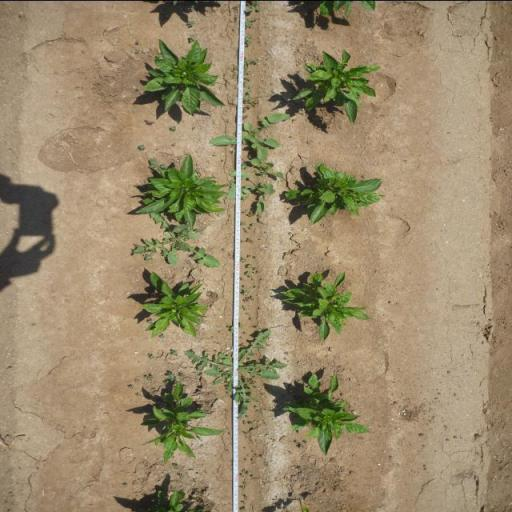plant: (136, 382, 230, 462), (282, 371, 370, 453), (280, 266, 374, 342), (292, 46, 381, 124), (283, 160, 387, 224), (142, 38, 226, 113), (133, 157, 228, 221), (138, 270, 210, 337), (141, 487, 187, 512), (316, 0, 378, 18)
weed: (182, 328, 291, 418), (134, 211, 224, 270), (214, 120, 288, 154), (227, 176, 276, 214), (231, 158, 285, 177), (242, 88, 258, 112), (243, 58, 259, 74), (178, 0, 196, 12), (244, 0, 262, 11), (226, 62, 238, 76), (245, 16, 256, 28), (242, 468, 254, 478), (142, 253, 156, 261), (243, 76, 252, 88), (166, 370, 176, 380), (244, 34, 252, 46), (149, 158, 157, 169), (143, 118, 155, 125), (242, 294, 253, 301), (246, 263, 258, 269), (239, 288, 248, 296), (245, 311, 253, 320), (242, 420, 254, 426), (228, 177, 236, 186), (192, 488, 198, 499), (244, 270, 252, 278), (226, 324, 234, 332), (138, 143, 146, 150), (243, 226, 252, 232), (144, 374, 153, 380), (240, 256, 247, 263), (247, 210, 255, 216), (246, 237, 254, 243), (147, 353, 155, 359), (171, 463, 179, 469), (190, 33, 196, 41), (187, 20, 195, 26), (239, 506, 247, 512), (170, 124, 176, 131), (241, 162, 248, 168), (239, 276, 246, 282), (238, 321, 244, 328), (238, 342, 245, 348), (171, 349, 177, 356), (177, 154, 183, 160), (170, 140, 176, 146), (242, 208, 248, 214), (179, 373, 185, 379), (247, 152, 253, 158), (134, 38, 140, 44), (298, 466, 304, 472), (242, 114, 248, 119), (240, 219, 246, 224), (243, 494, 248, 500), (134, 48, 140, 53), (285, 250, 290, 256), (179, 474, 185, 479), (122, 482, 128, 487), (242, 284, 248, 288), (242, 304, 246, 310), (253, 270, 260, 273), (250, 222, 256, 225), (242, 331, 248, 334), (127, 385, 132, 388), (242, 196, 248, 198), (253, 256, 259, 258), (246, 254, 252, 256), (242, 502, 247, 504)
